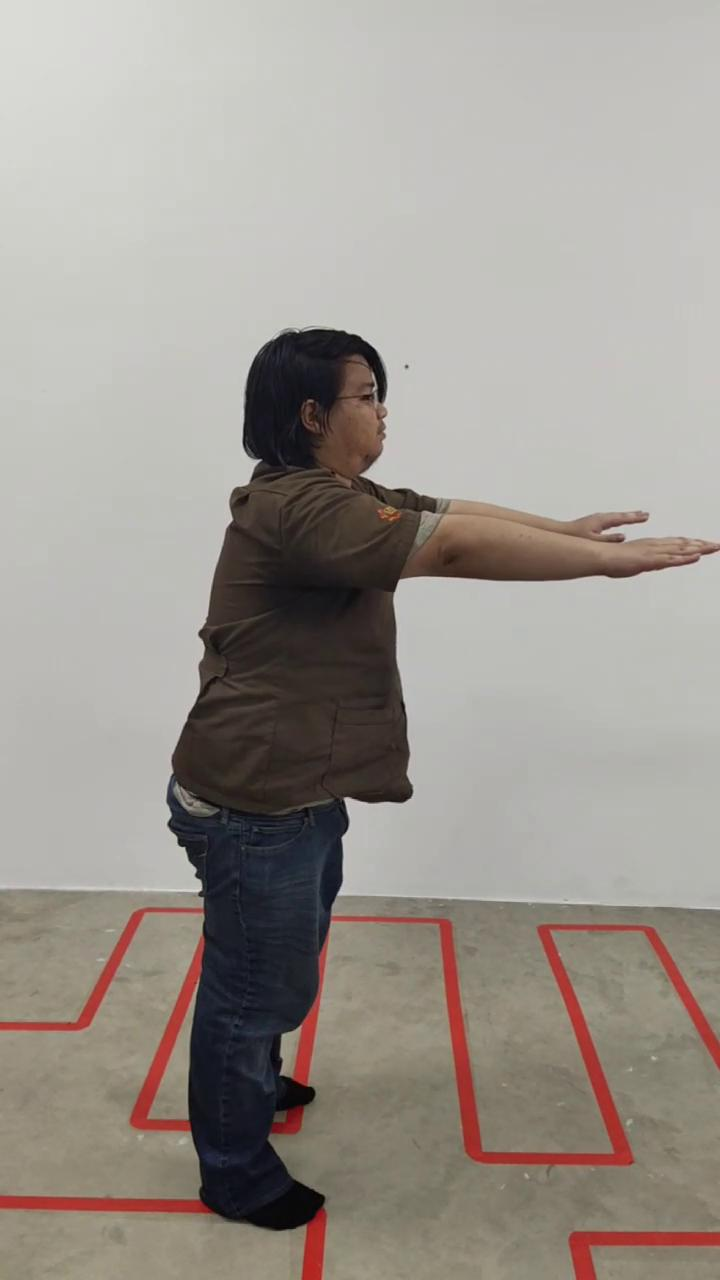squat up: (167, 326, 719, 1233)
